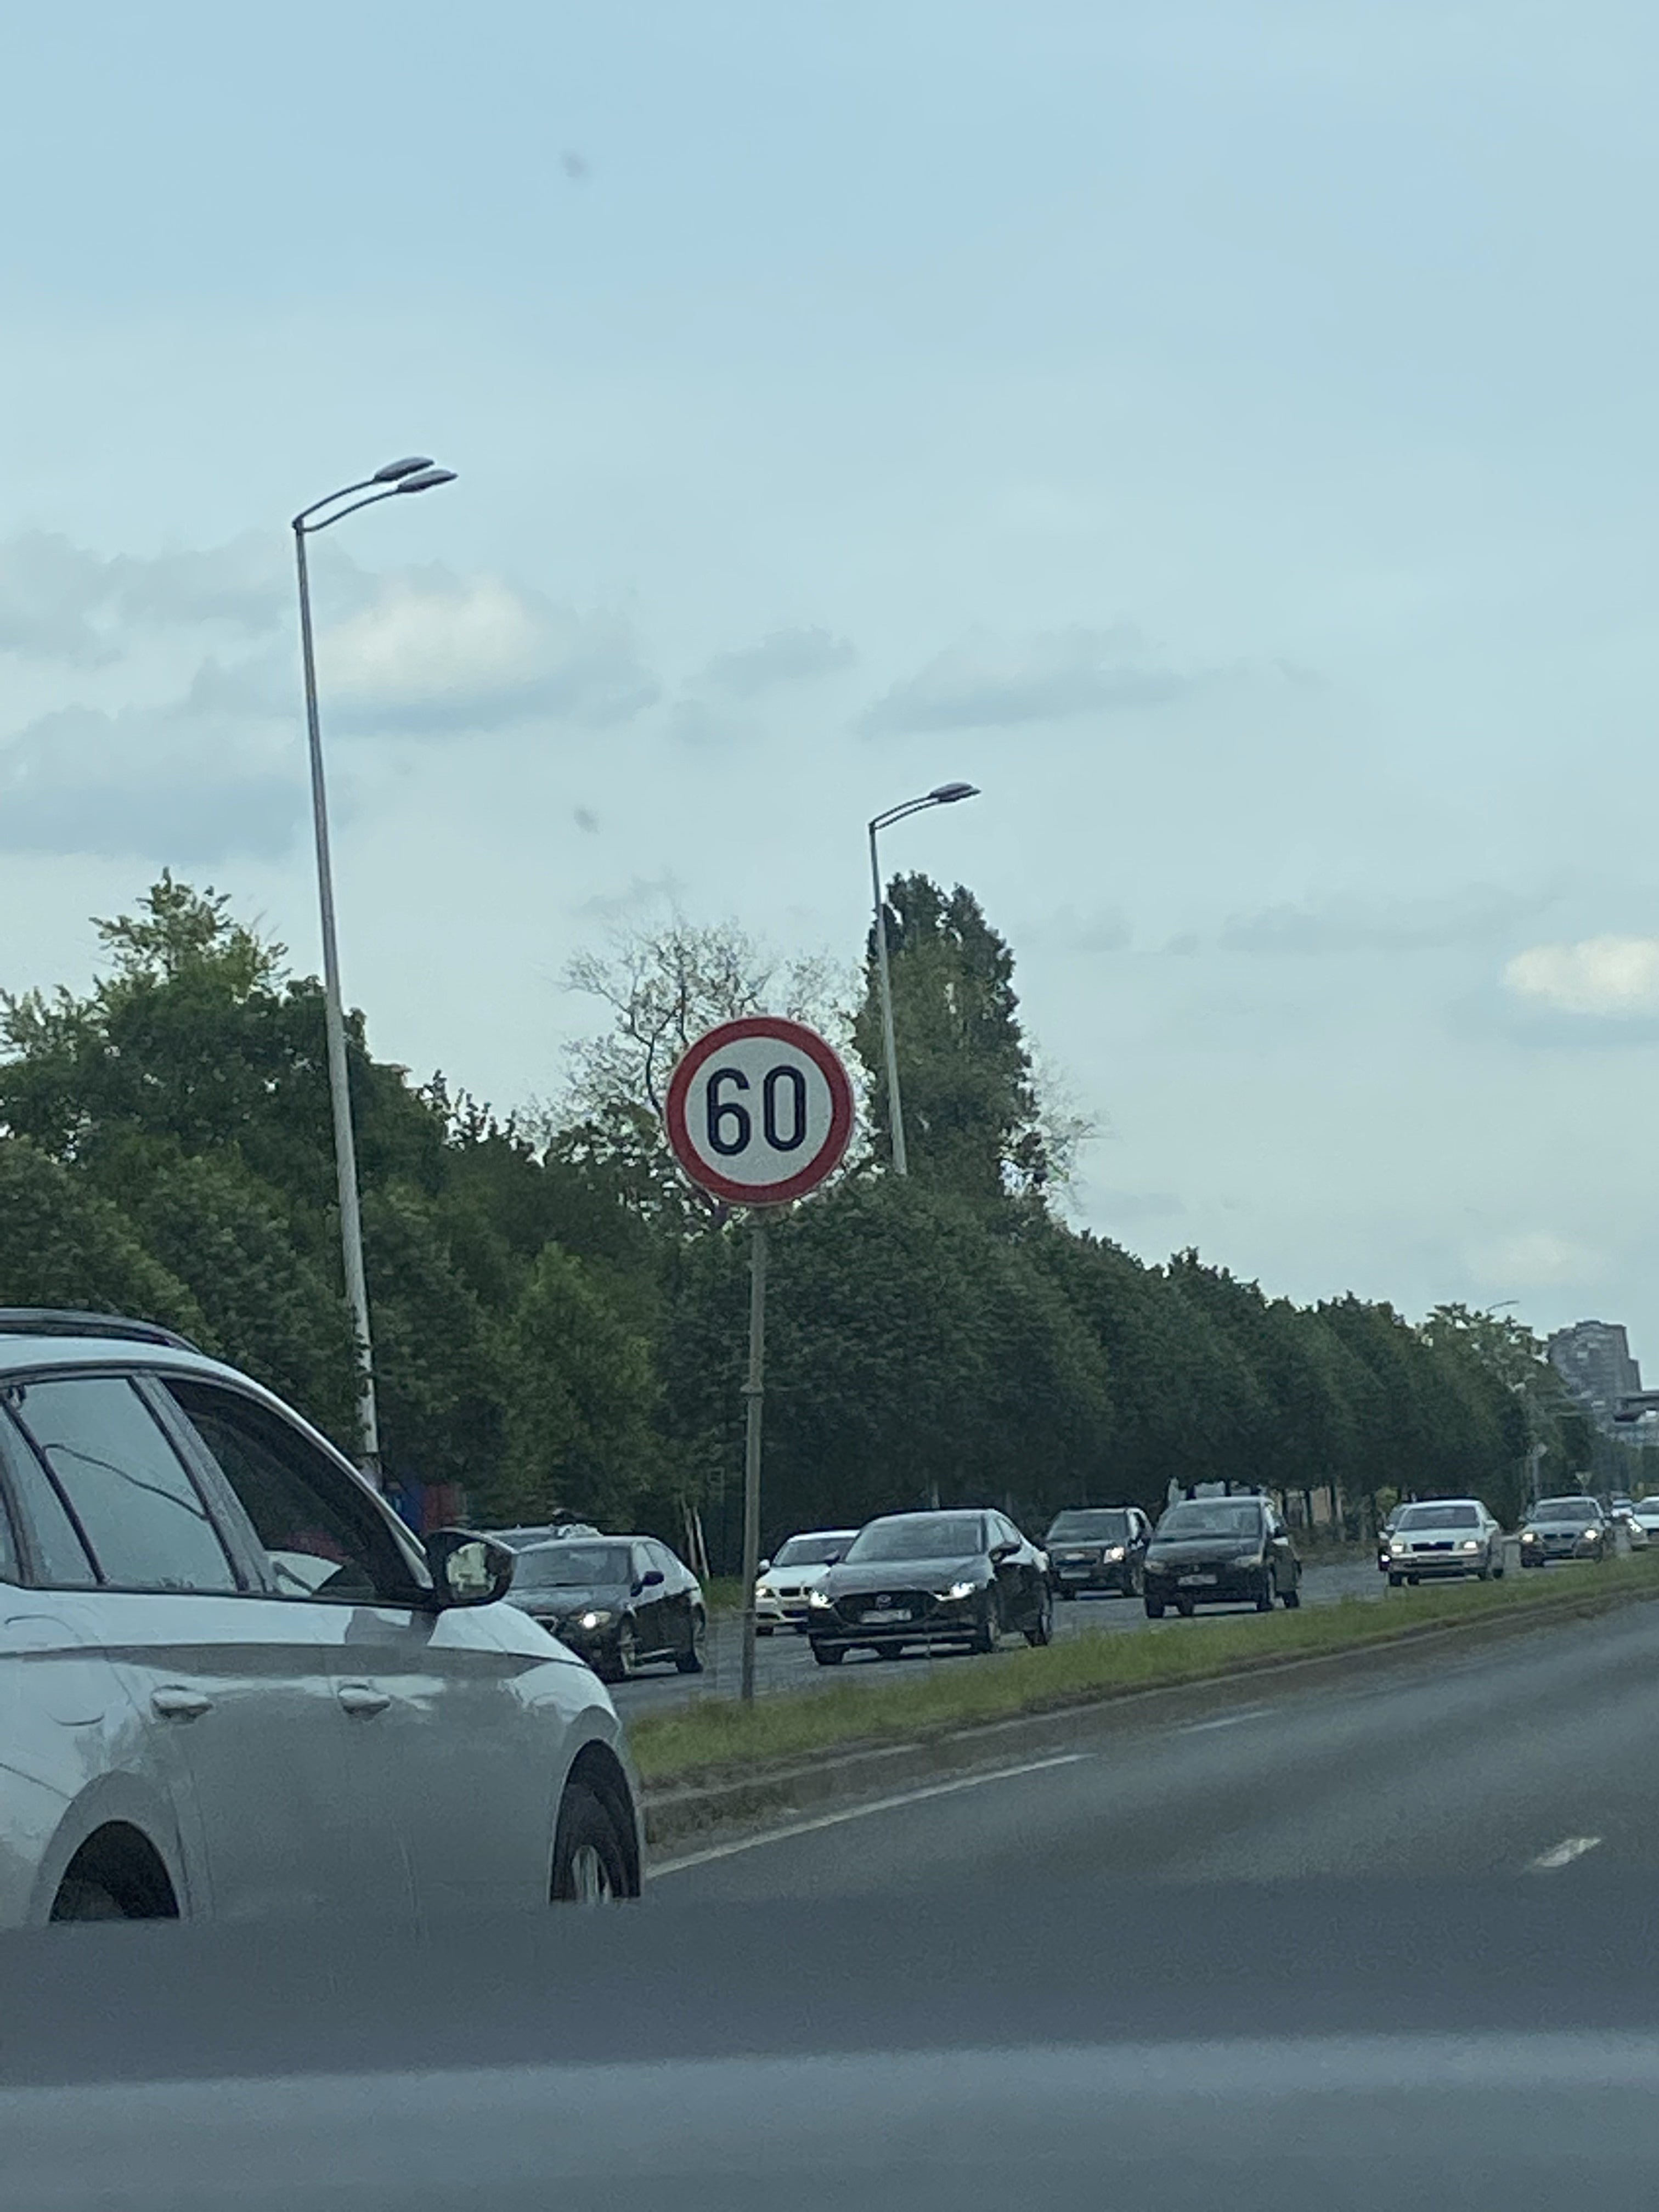Ograničenje brzine 60: (664, 1015, 856, 1207)
